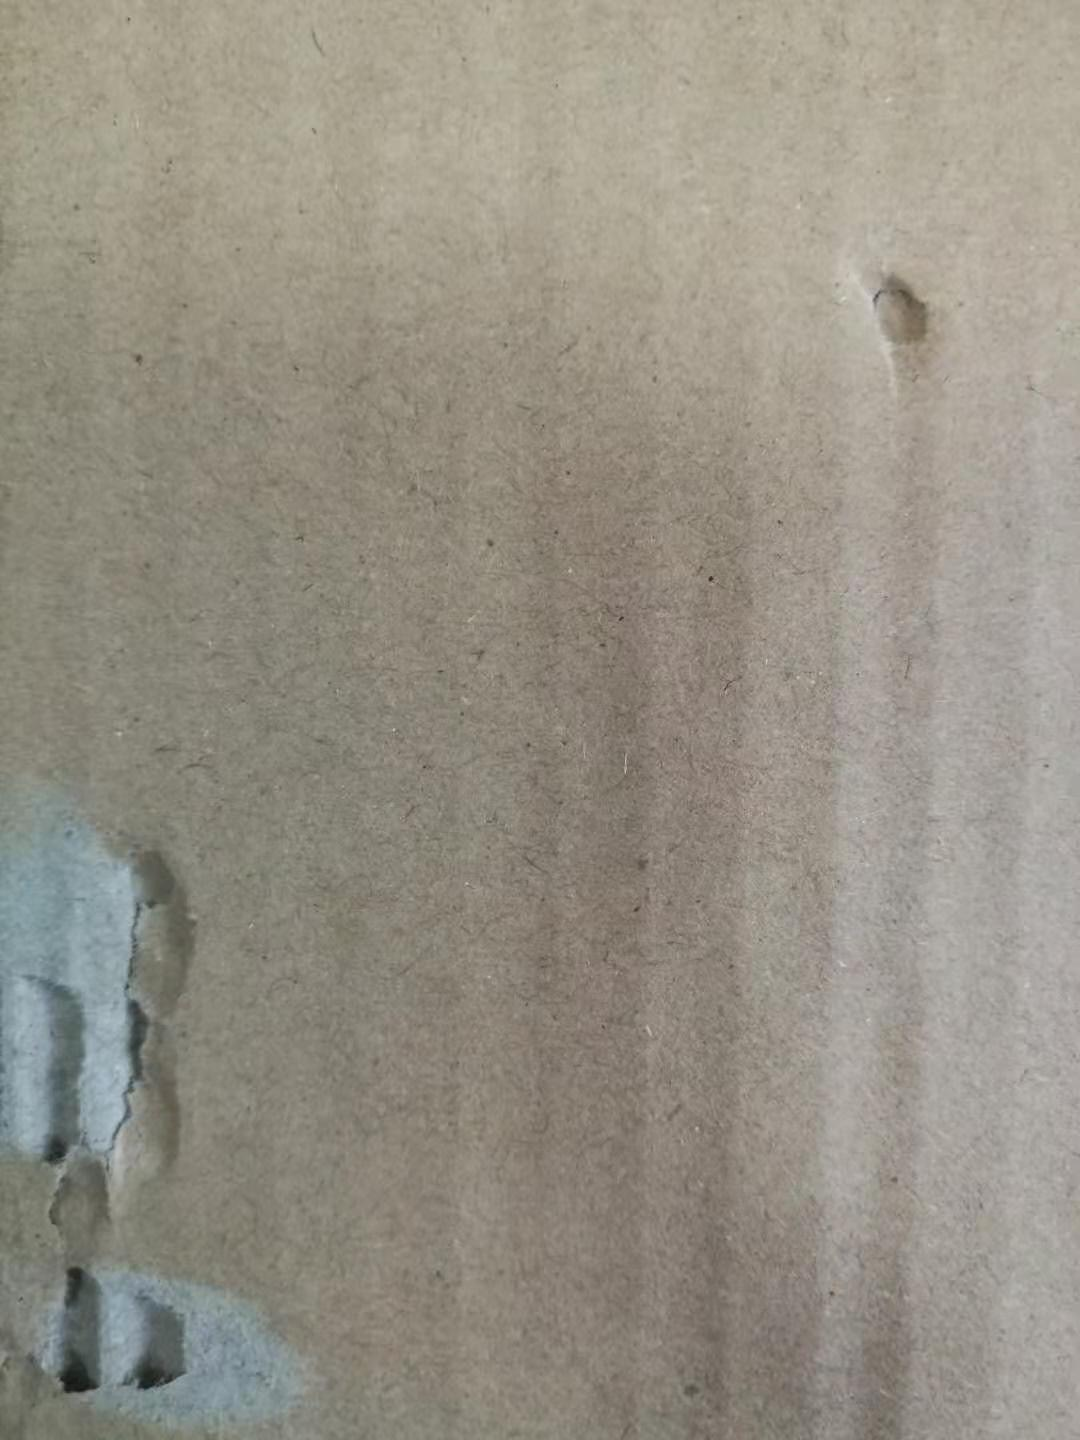defect: (2, 739, 364, 1440), (837, 242, 957, 396)
